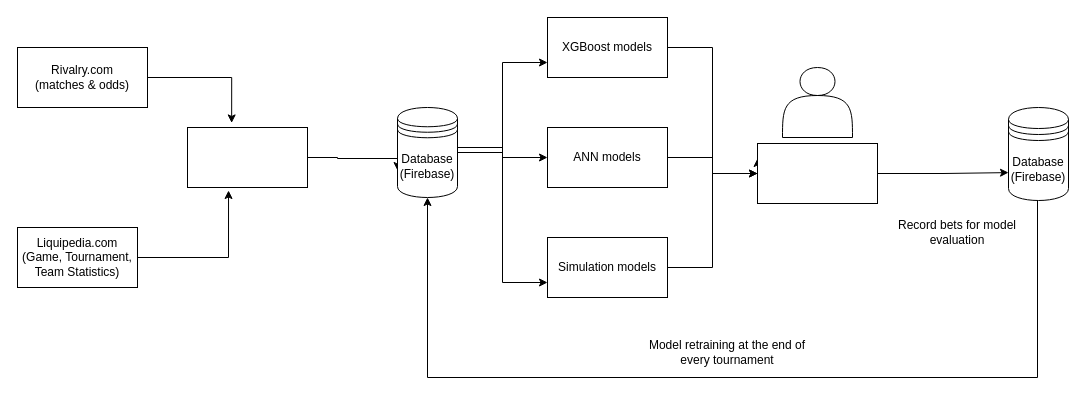
Image size: 1086x403. Some labels were removed from this diagram. The centre of each missing label's shape, as x and y in pixels:
"Decision point on Team to Bet" goes at pixel 817 173.
"Scraper" goes at pixel 247 157.
